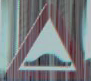Speed Breaker ahead: (7, 2, 81, 74)
